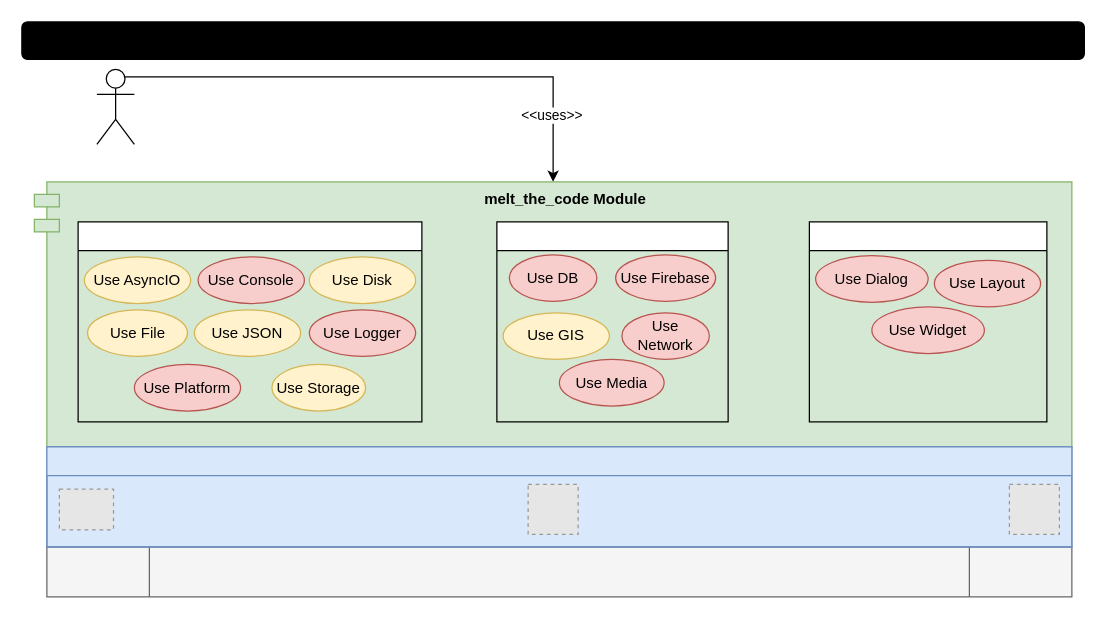
Image size: 1106x619. Some labels were removed from this diagram. Grey dashed boxes stand in for pictures. The shapes that lost their labels are listed below. From the top down, each one's box as (x1, y1, x2, y2) in pixels, then its label:
(21, 21, 1084, 59): Use Case Model
(96, 68, 134, 144): Software Application
(77, 221, 422, 422): Core Services
(496, 221, 728, 422): External Services
(808, 221, 1047, 422): User Interface
(46, 446, 1072, 547): Software Developer Kit / Language
(46, 546, 1072, 597): Operating System
